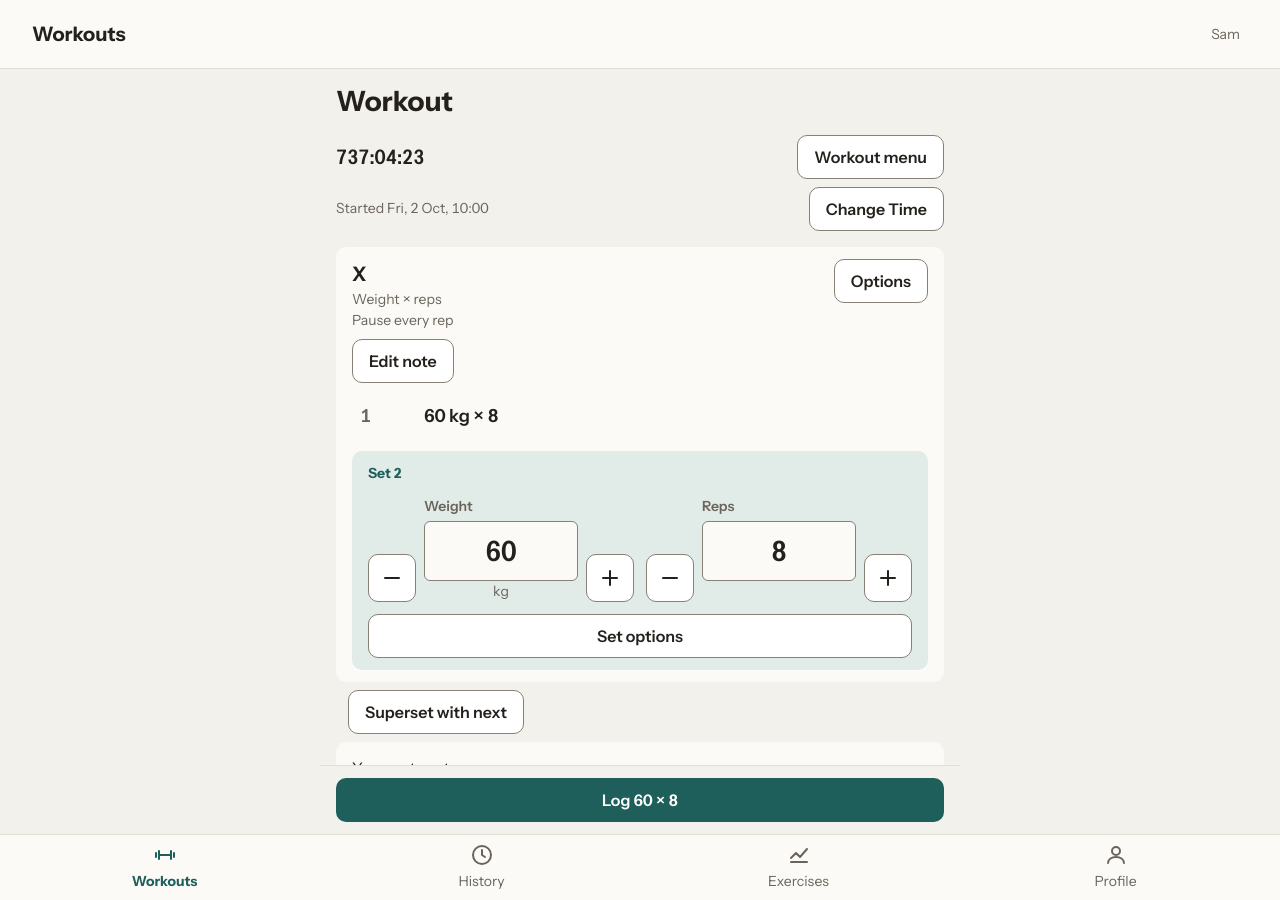
Test: 10.3 AC27 — the Note action and sheet › Save on an unchanged value just closes: no request
The image size is (1280, 900).
Expected: the heading "Workout" is shown, [336,84,453,118]
Step 1. Click the button with aria-label "Edit note for X" → {"x": 403, "y": 361}, box [352,339,454,383]
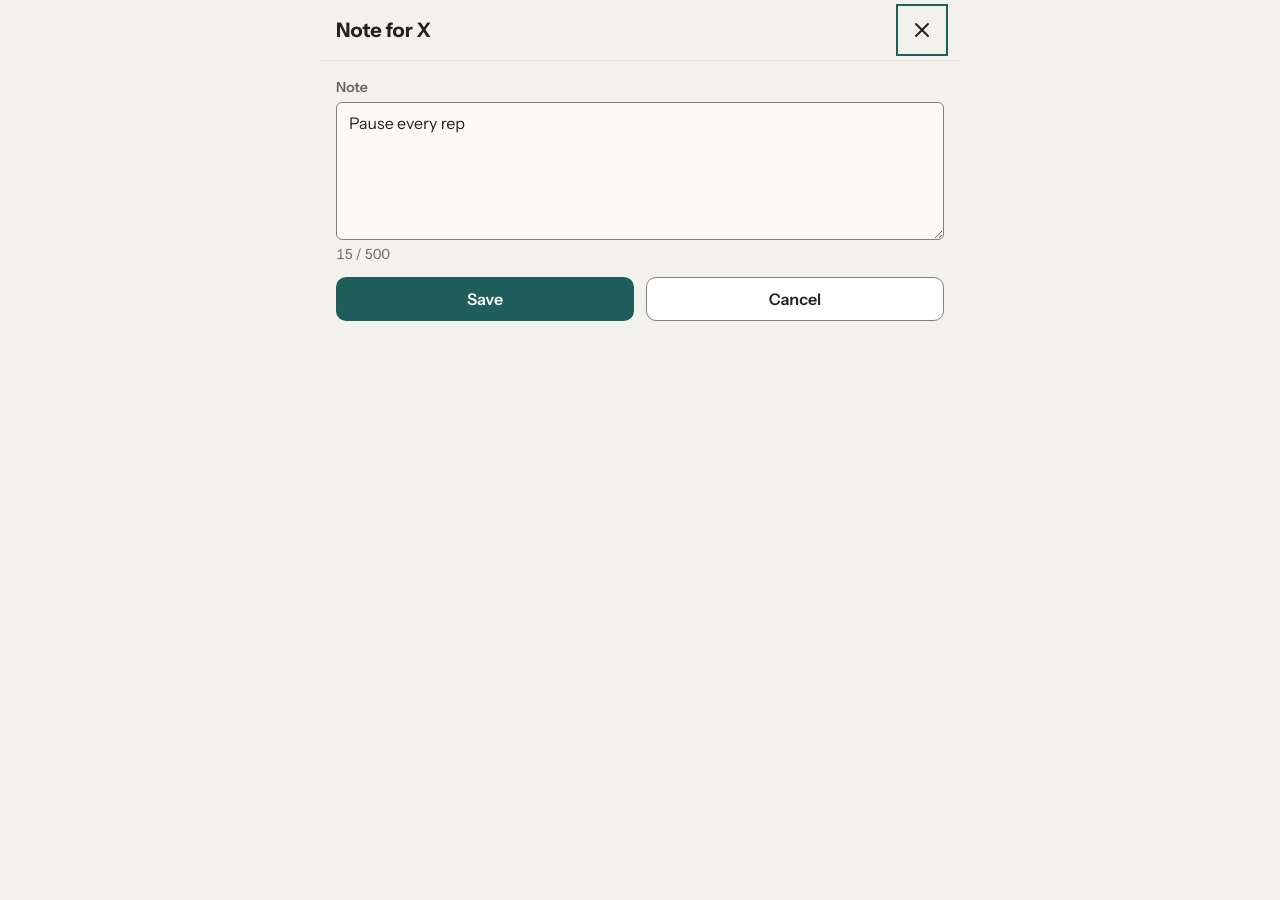
Step 2. Click the button "Save" → {"x": 485, "y": 299}, box [336,277,634,321]
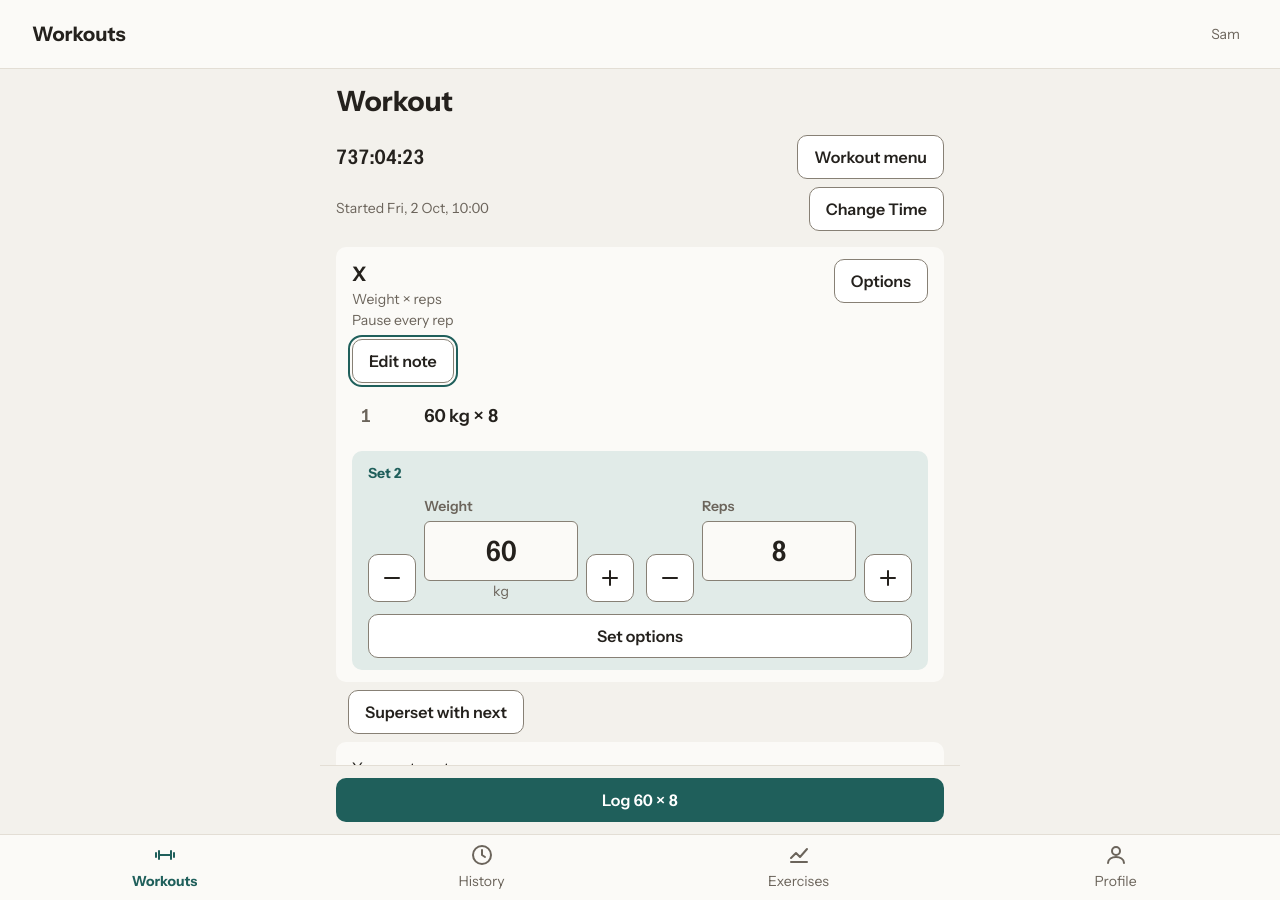
Expected: the heading "Note for" is gone
